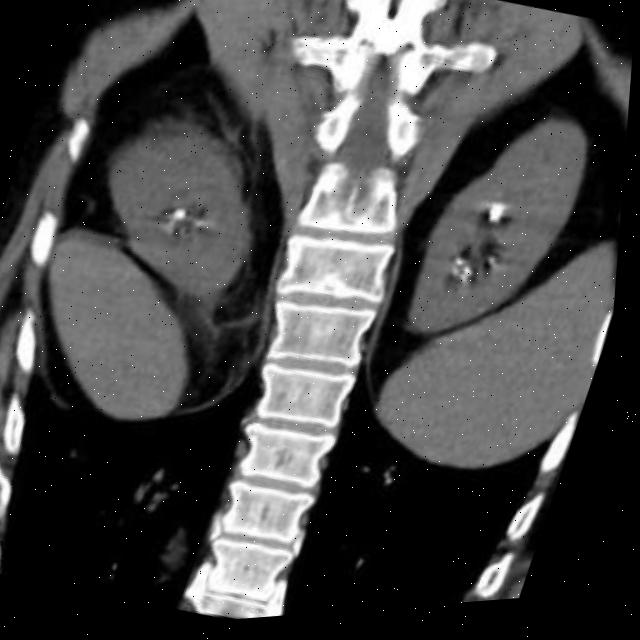Tas_Var: (486, 204, 514, 236), (174, 207, 192, 229), (451, 271, 467, 285), (457, 262, 472, 276), (462, 280, 476, 295), (465, 273, 481, 285)
